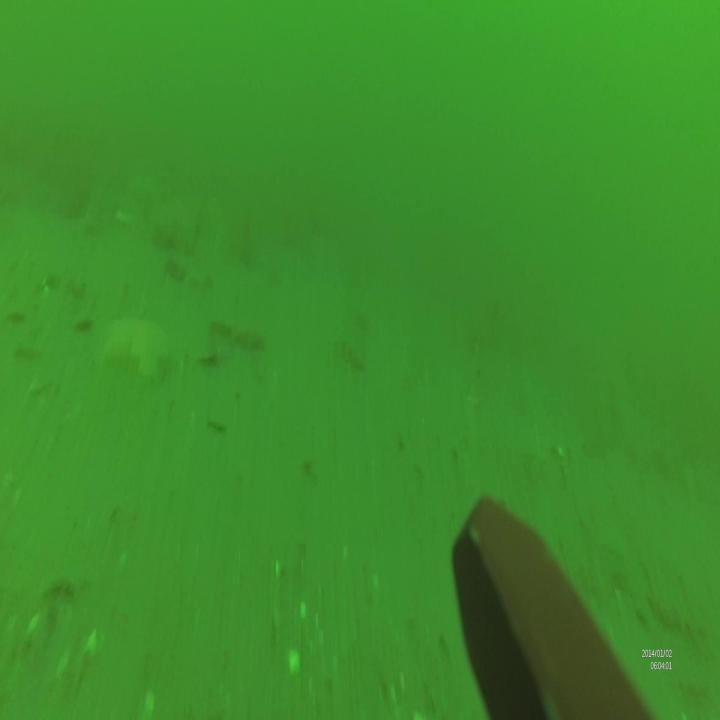starfish: (102, 302, 172, 388)
